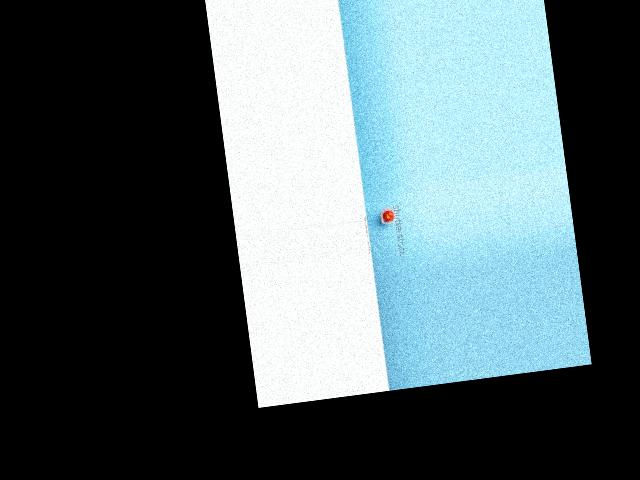tomato: (382, 210, 394, 222)
